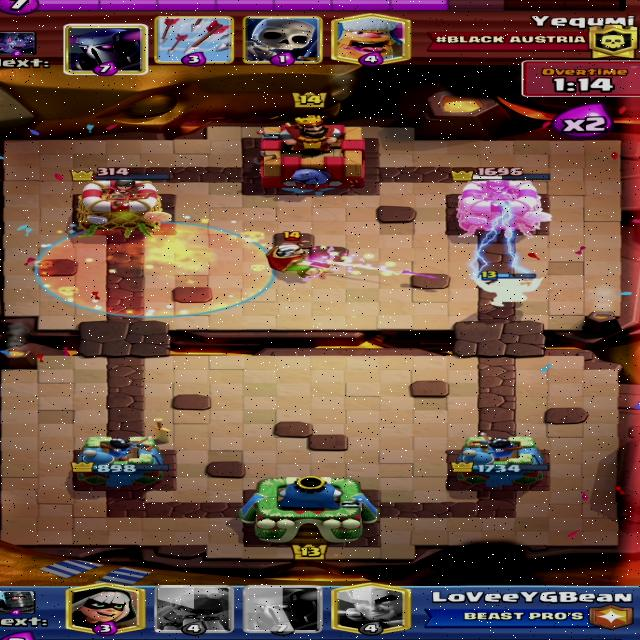Enemy-MagicArcher: (266, 230, 338, 281)
Player-ElectroWizard: (470, 271, 544, 307)
Player-Poision: (35, 221, 278, 318)
